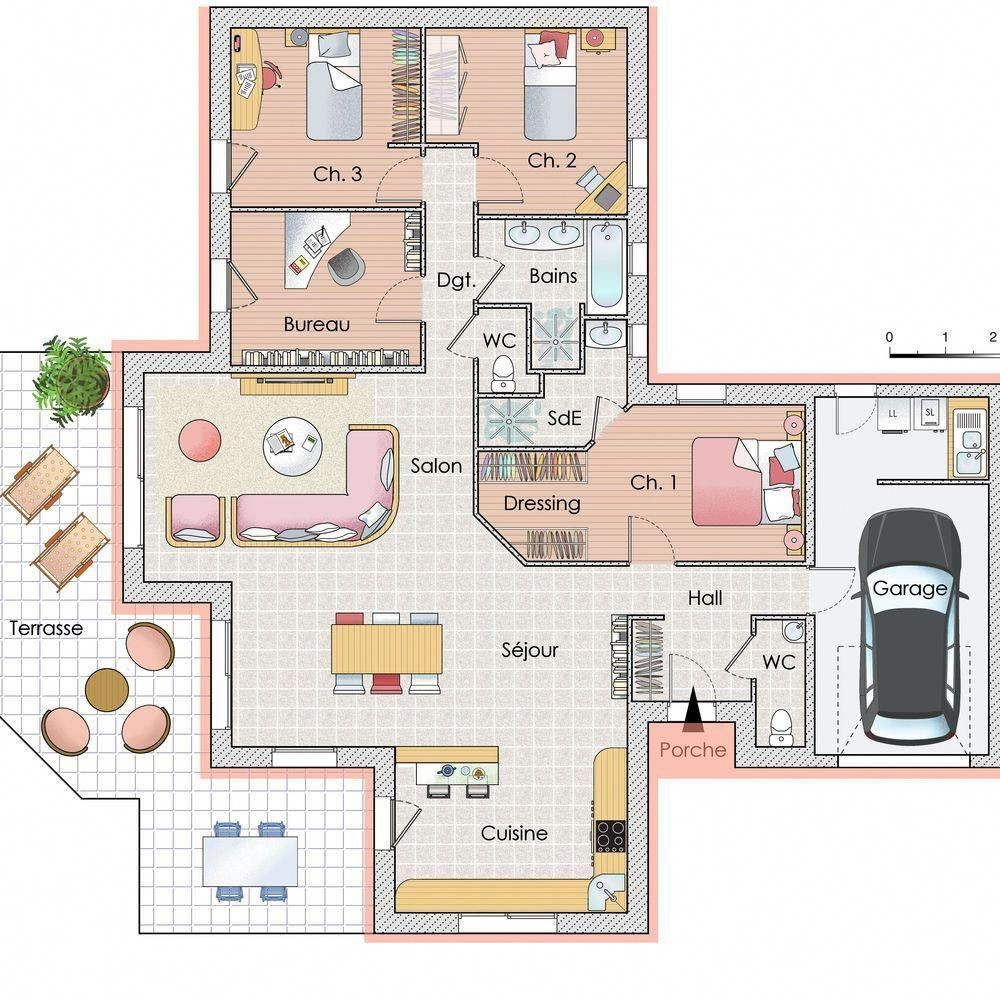door: (361, 151, 420, 206), (470, 155, 529, 210), (364, 273, 423, 328), (619, 506, 678, 561), (830, 395, 879, 446), (666, 651, 717, 699), (809, 565, 855, 618)
room: (373, 745, 646, 934), (421, 6, 650, 219), (209, 7, 425, 211), (209, 205, 425, 373), (472, 213, 649, 307)
window: (123, 405, 146, 548), (209, 621, 233, 731), (456, 912, 557, 935), (272, 746, 338, 768), (675, 382, 728, 406), (626, 136, 649, 189), (626, 241, 650, 278), (625, 323, 650, 358)
